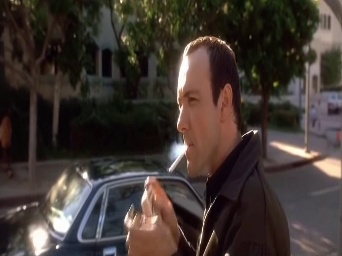smoke: (166, 145, 188, 173)
